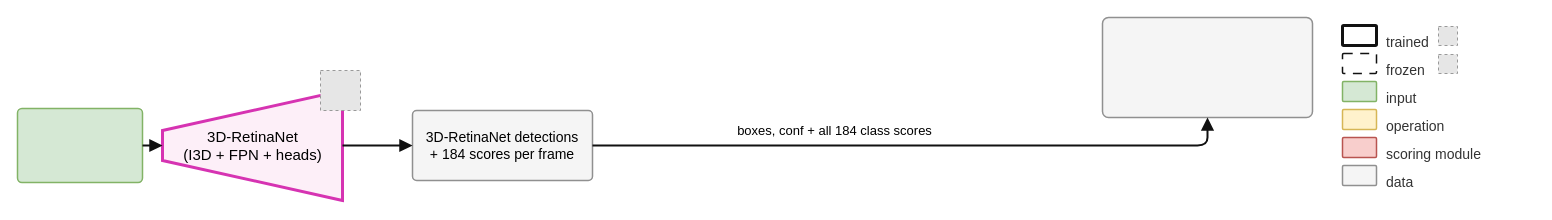
The diagram is 1552 pixels wide and 220 high, and some of its shapes have lost their labels. Grey dashed boxes stand in for pictures. The centre of each missing label's shape, as x and y in pixels:
"8-frame clip" belongs at point (79, 145).
"per-frame detections: boxes scored across 184 classes" belongs at point (1207, 67).
